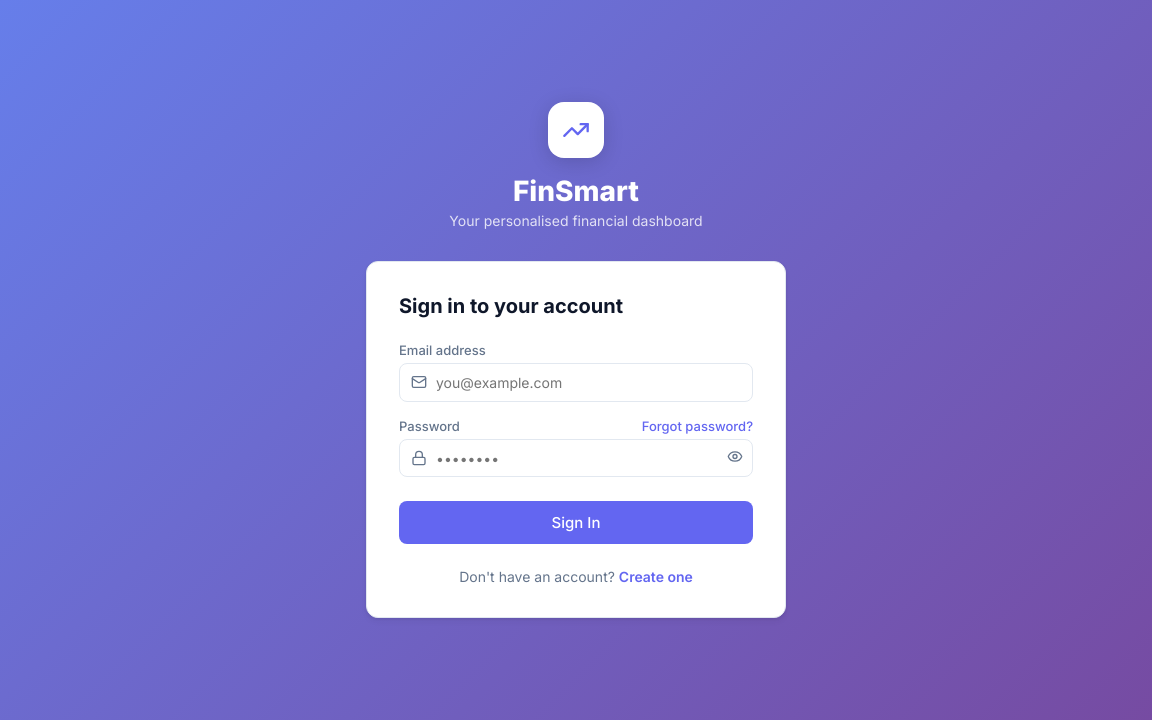
Test: Login form › shows validation message returned by the API
Type "user@example.com" into the field with placeholder "you@example.com".
click(576, 382); type("user@example.com")  # box [399,363,753,402]
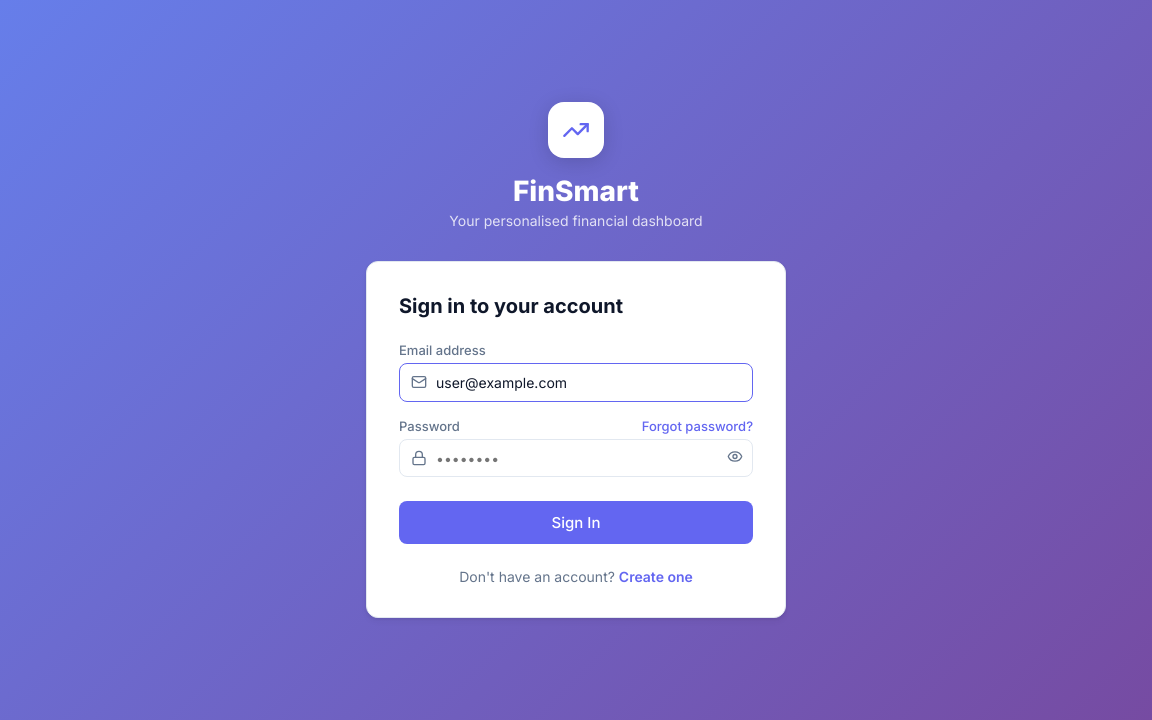
Type "wrong-password" into the password field with placeholder "••••••••".
click(576, 458); type("wrong-password")  # box [399,439,753,477]
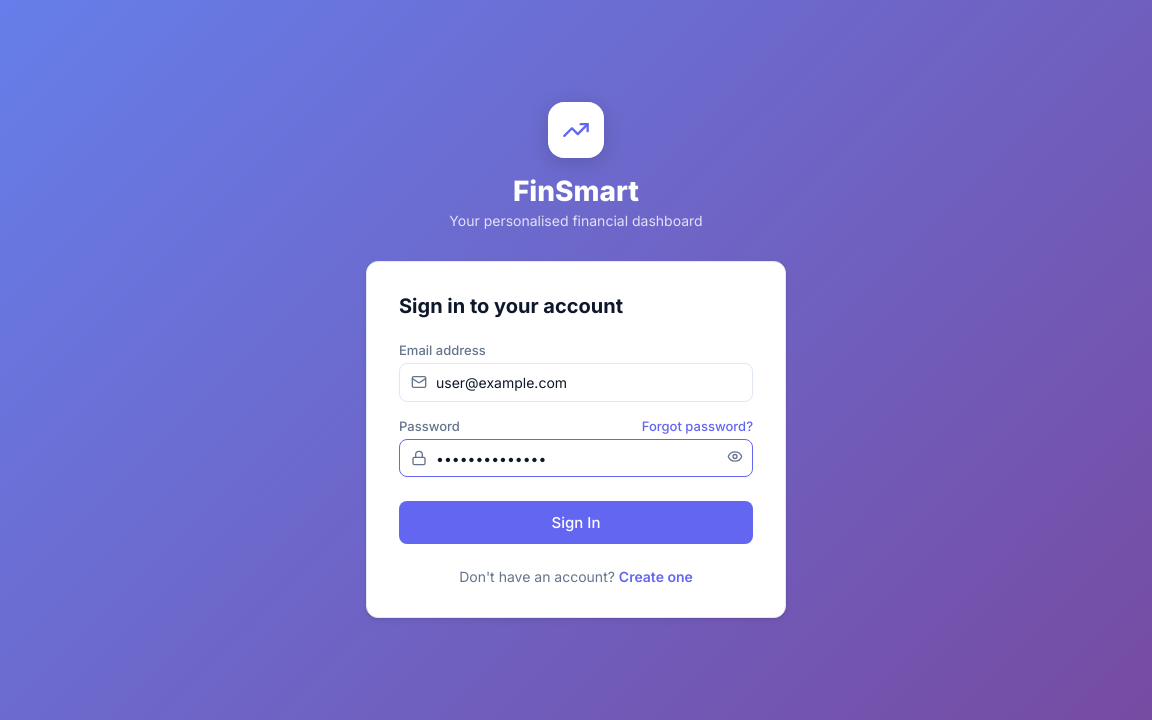
Click the button "Sign In".
click(576, 523)  # box [399,501,753,544]
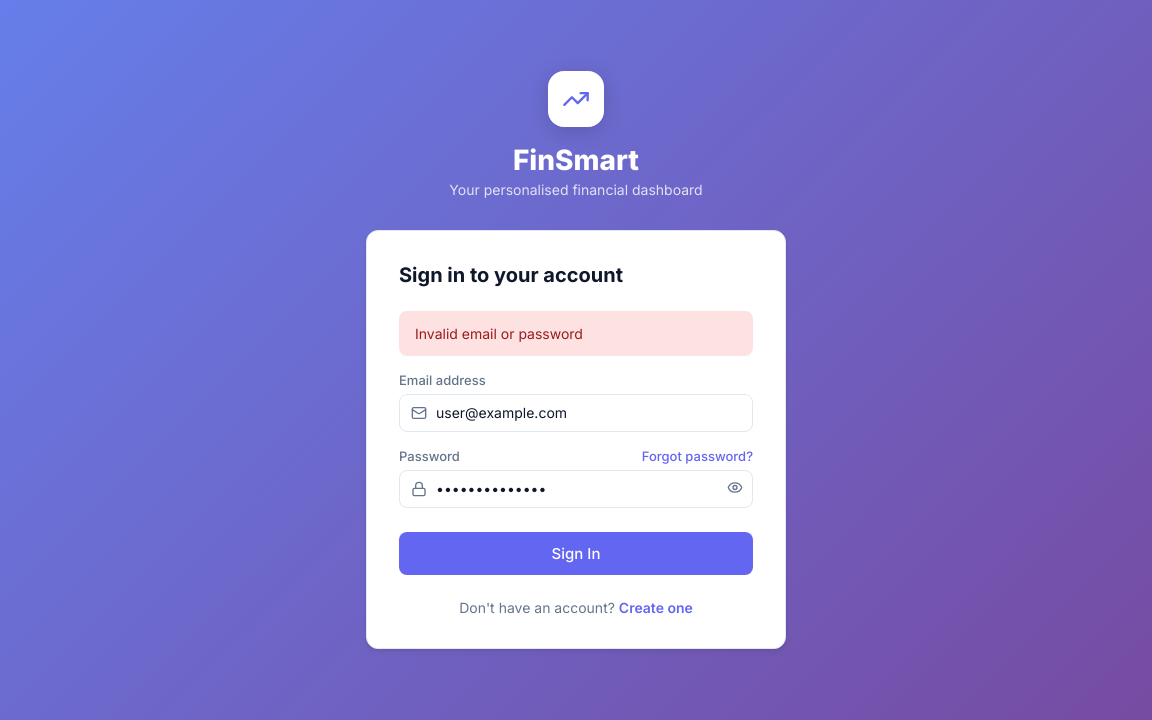
Expected: the button "Sign In" is enabled, [399,532,753,575]
Now the text "Invalid email or password" is shown, box [399,311,753,356]
